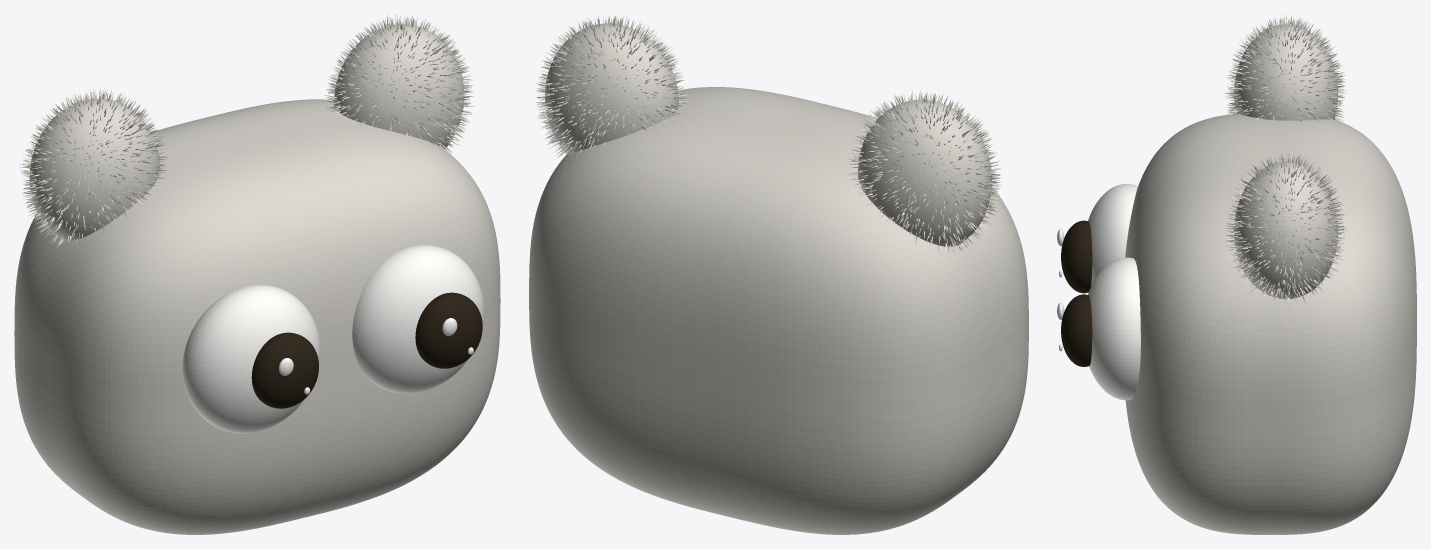
Rendered from mascot.glb.
3 renders of one model, left to right at view 1: azimuth 30°, elevation 25°; view 2: azimuth 150°, elevation 25°; view 3: azimuth 270°, elevation 25°, orthographic. The views are drawn at different scales.
Visible parts, largest first — view 1: HEAD_FUR_CORE, EAR_L, EYEBALL_L, EYEBALL_R, EAR_R, FUR_EAR_L_IVORY, FUR_EAR_R_IVORY, PUPIL_L, PUPIL_R, FUR_EAR_L_WARM, FUR_EAR_R_WARM; view 2: HEAD_FUR_CORE, EAR_L, EAR_R, FUR_EAR_L_IVORY, FUR_EAR_R_IVORY, FUR_EAR_L_WARM, FUR_EAR_R_WARM; view 3: HEAD_FUR_CORE, EAR_R, EAR_L, EYEBALL_R, FUR_EAR_R_IVORY, FUR_EAR_L_IVORY, EYEBALL_L, PUPIL_L, PUPIL_R, FUR_EAR_R_WARM, FUR_EAR_L_WARM.
Boxes of the visible parts, left/top/right/bottom form: HEAD_FUR_CORE: left=14, top=99, right=500, bottom=534; EAR_L: left=29, top=98, right=159, bottom=240; EYEBALL_L: left=182, top=285, right=320, bottom=433; EYEBALL_R: left=352, top=244, right=483, bottom=393; EAR_R: left=334, top=24, right=464, bottom=148; FUR_EAR_L_IVORY: left=20, top=88, right=168, bottom=246; FUR_EAR_R_IVORY: left=325, top=14, right=474, bottom=154; PUPIL_L: left=251, top=332, right=318, bottom=408; PUPIL_R: left=415, top=292, right=482, bottom=368; FUR_EAR_L_WARM: left=20, top=90, right=166, bottom=245; FUR_EAR_R_WARM: left=326, top=19, right=472, bottom=152; HEAD_FUR_CORE: left=529, top=87, right=1028, bottom=534; EAR_L: left=858, top=99, right=991, bottom=246; EAR_R: left=545, top=23, right=678, bottom=154; FUR_EAR_L_IVORY: left=847, top=90, right=1001, bottom=253; FUR_EAR_R_IVORY: left=535, top=15, right=688, bottom=160; FUR_EAR_L_WARM: left=847, top=92, right=999, bottom=252; FUR_EAR_R_WARM: left=536, top=16, right=684, bottom=151; HEAD_FUR_CORE: left=1125, top=114, right=1416, bottom=534; EAR_R: left=1234, top=161, right=1337, bottom=299; EAR_L: left=1234, top=24, right=1337, bottom=120; EYEBALL_R: left=1088, top=257, right=1140, bottom=400; FUR_EAR_R_IVORY: left=1225, top=152, right=1346, bottom=304; FUR_EAR_L_IVORY: left=1225, top=16, right=1346, bottom=122; EYEBALL_L: left=1088, top=183, right=1137, bottom=286; PUPIL_L: left=1061, top=220, right=1092, bottom=293; PUPIL_R: left=1061, top=294, right=1092, bottom=366; FUR_EAR_R_WARM: left=1225, top=154, right=1346, bottom=305; FUR_EAR_L_WARM: left=1227, top=15, right=1346, bottom=121.
Size of the model in its own units: 1.53 by 1.45 by 1.18.
